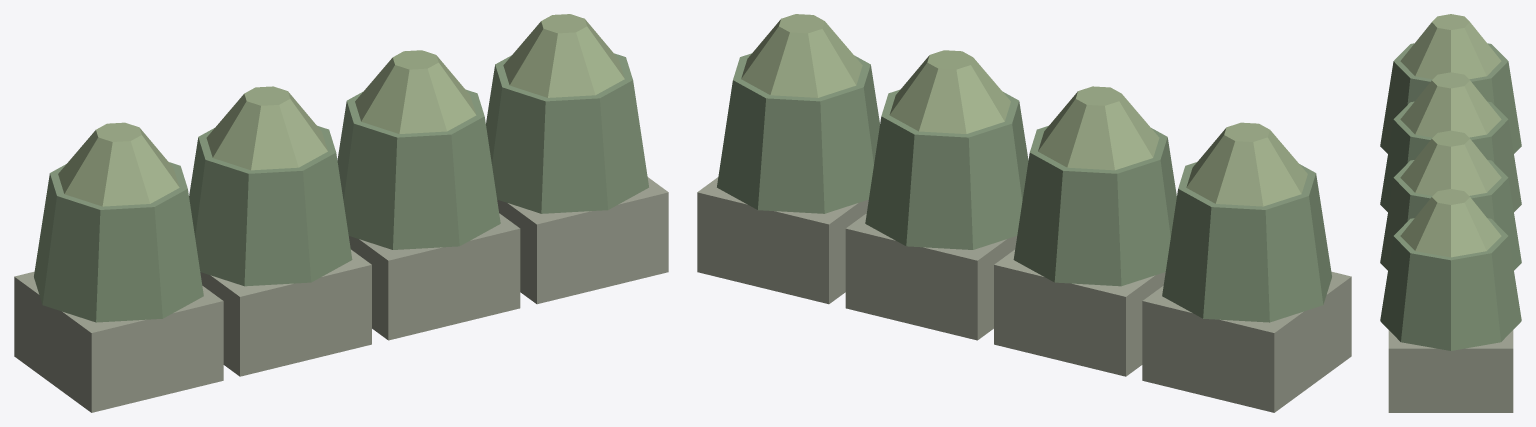
Rendered from map-exclusive-v3__champion_13.glb.
3 views of the same model, side by side, from view 1: azimuth 30°, elevation 25°; view 2: azimuth 150°, elevation 25°; view 3: azimuth 270°, elevation 25° (orthographic). The views are drawn at different scales.
Parts seen in each view (by area): view 1: champion_13; view 2: champion_13; view 3: champion_13.
Boxes of the visible parts, left/top/right/bottom form: champion_13: left=14, top=14, right=668, bottom=412; champion_13: left=697, top=14, right=1351, bottom=412; champion_13: left=1380, top=14, right=1521, bottom=412.
Bounding box in the file's own units: 2.9 × 1.1 × 0.7399.
